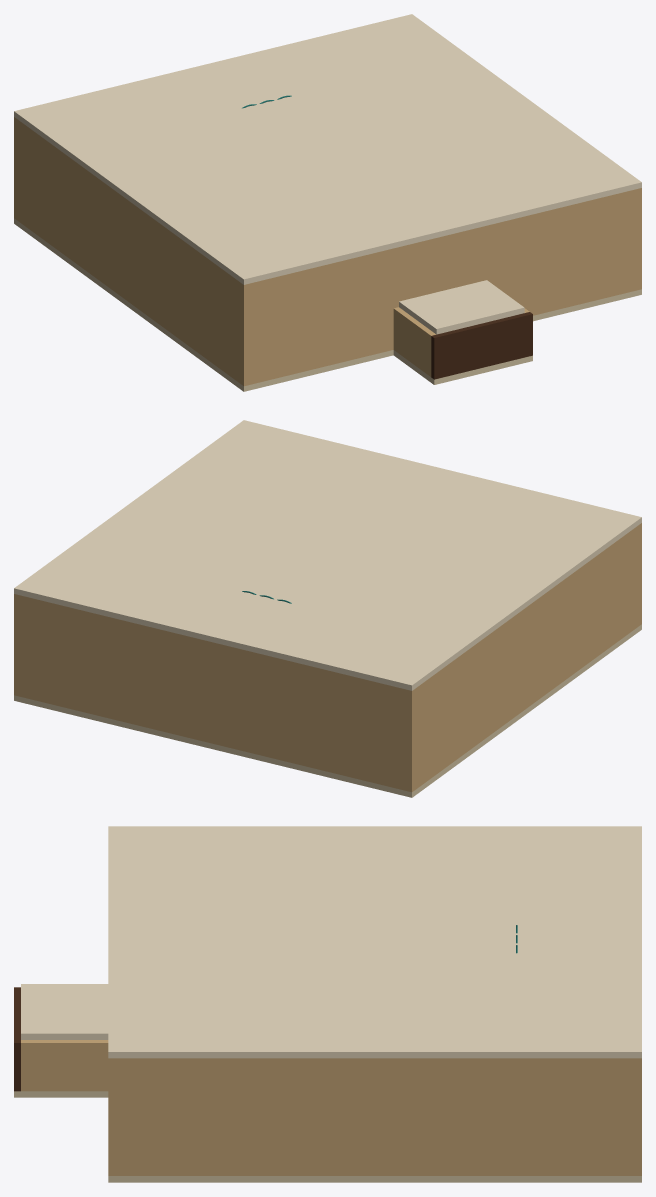
The model's file is hall_259.glb.
3 views of the same model, one above another, from view 1: azimuth 30°, elevation 25°; view 2: azimuth 150°, elevation 25°; view 3: azimuth 270°, elevation 25° (orthographic). The views are drawn at different scales.
Parts seen in each view (by area): view 1: hall_259 ceiling, hall_259 wall, hall_259 wood, hall_259 floor; view 2: hall_259 ceiling, hall_259 wall, hall_259 floor; view 3: hall_259 ceiling, hall_259 wall, hall_259 floor, hall_259 wood.
Boxes of the visible parts, left/top/right/bottom form: hall_259 ceiling: left=14, top=14, right=641, bottom=334; hall_259 wall: left=14, top=117, right=641, bottom=386; hall_259 wood: left=431, top=312, right=532, bottom=379; hall_259 floor: left=14, top=218, right=641, bottom=391; hall_259 ceiling: left=14, top=420, right=641, bottom=690; hall_259 wall: left=14, top=523, right=641, bottom=792; hall_259 floor: left=14, top=624, right=641, bottom=797; hall_259 ceiling: left=21, top=826, right=641, bottom=1058; hall_259 wall: left=21, top=1040, right=641, bottom=1175; hall_259 floor: left=14, top=1091, right=641, bottom=1182; hall_259 wood: left=14, top=987, right=20, bottom=1091.
Size of what is drawn, in the model's own units: 45.2 by 12.38 by 53.2.
